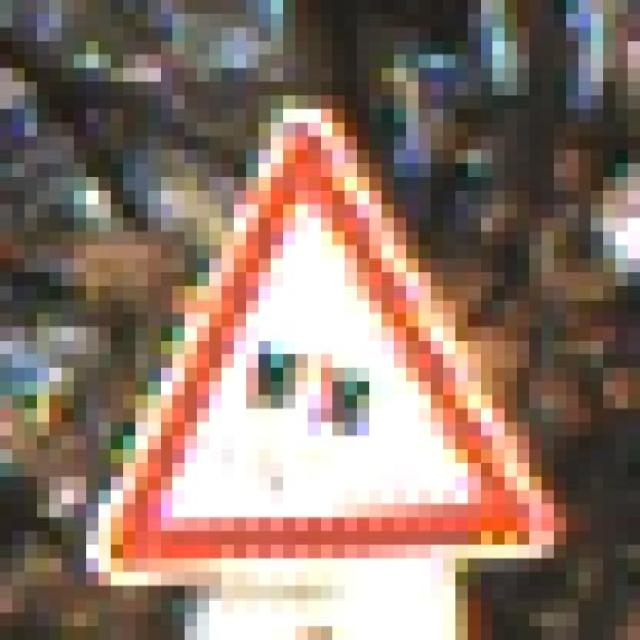Slippery Road Ahead: (64, 89, 582, 593)
